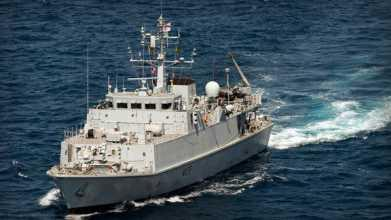warship: (58, 28, 275, 207)
